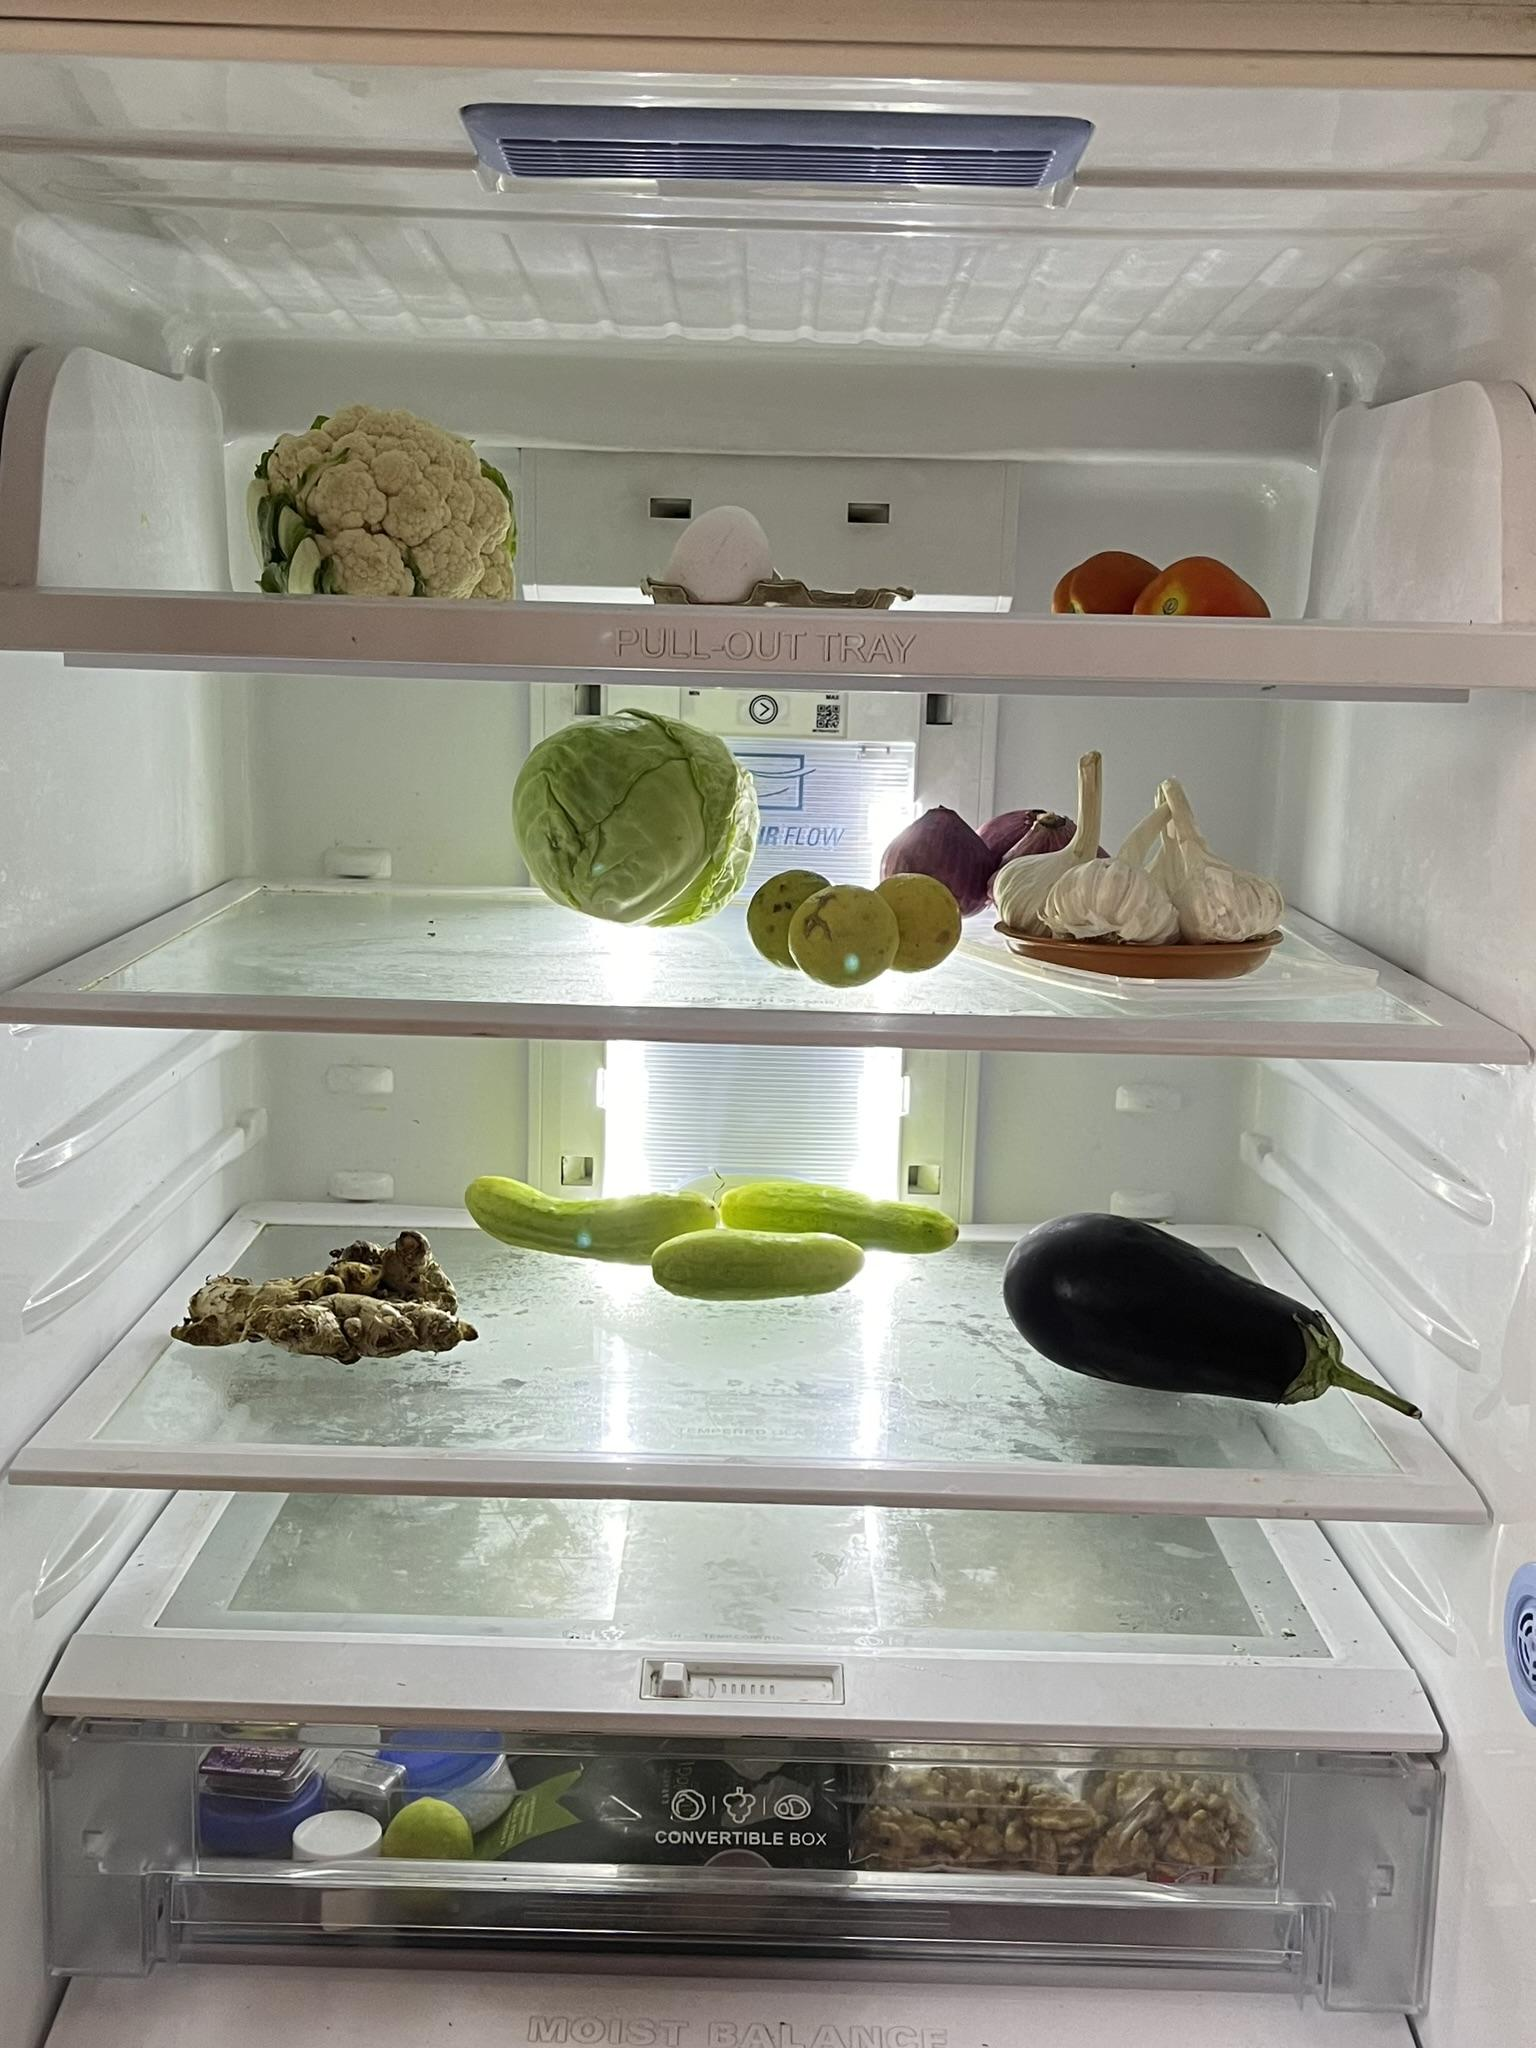bringal: (1004, 1200, 1413, 1416)
cabbage: (510, 703, 757, 934)
cauliflower: (244, 397, 520, 597)
cucumber: (470, 1166, 973, 1297)
egg: (660, 506, 770, 613)
garlic: (1000, 750, 1273, 950)
ginger: (184, 1224, 453, 1356)
lemon: (741, 863, 970, 984)
onion: (866, 797, 1091, 880)
tomato: (1050, 543, 1276, 613)
